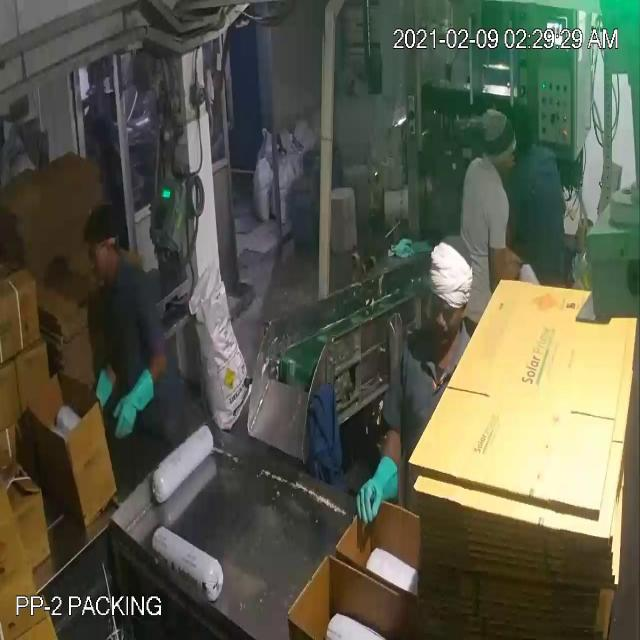Gloves: (27, 56, 507, 492)
